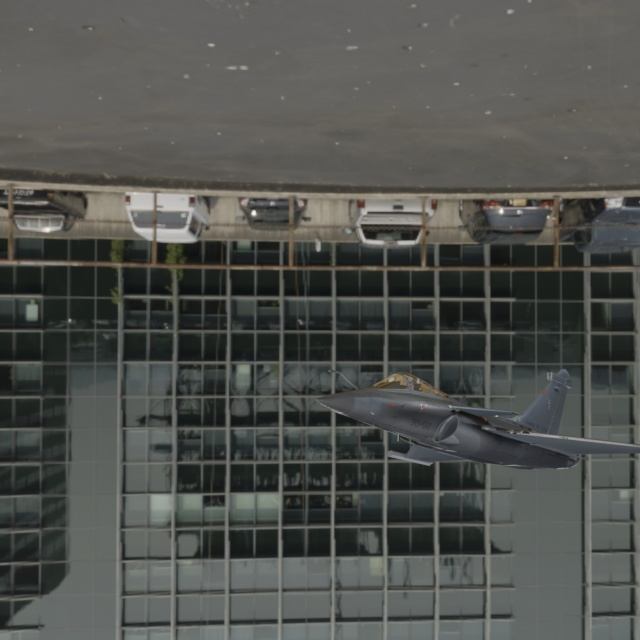dassault_rafale: (180, 246, 640, 486)
